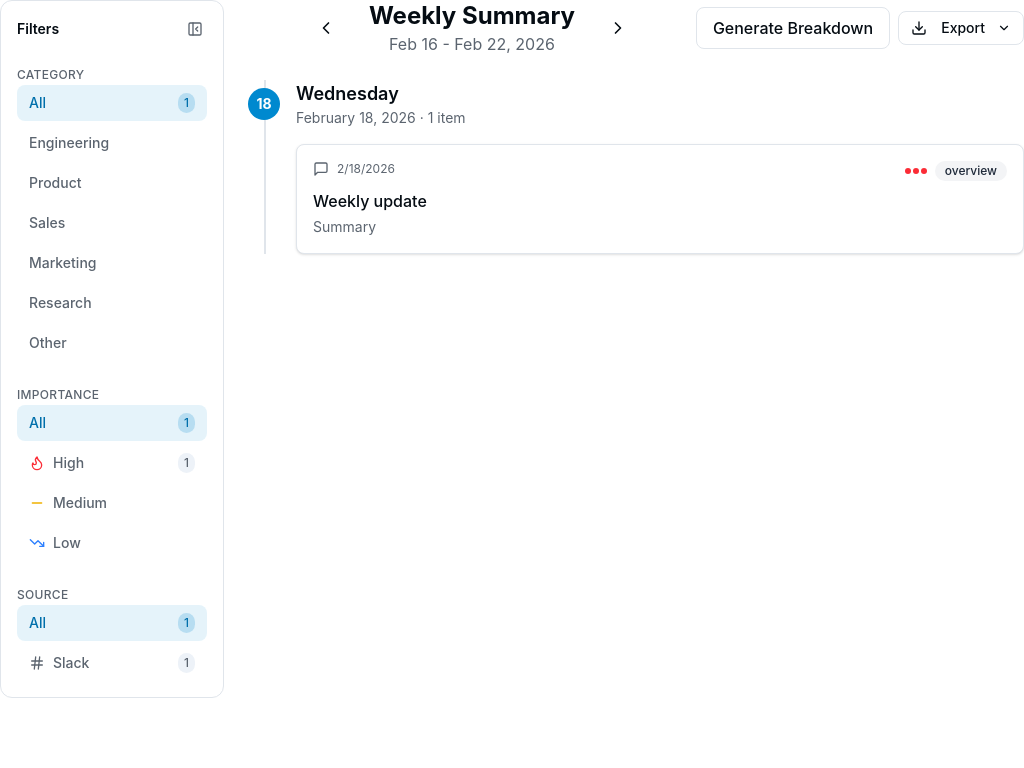
Test: WeeklySummaryView breakdown flow › generates breakdown and opens modal with returned text
Click the button "Generate Breakdown". click: point(793, 28)
box: left=696, top=7, right=890, bottom=49
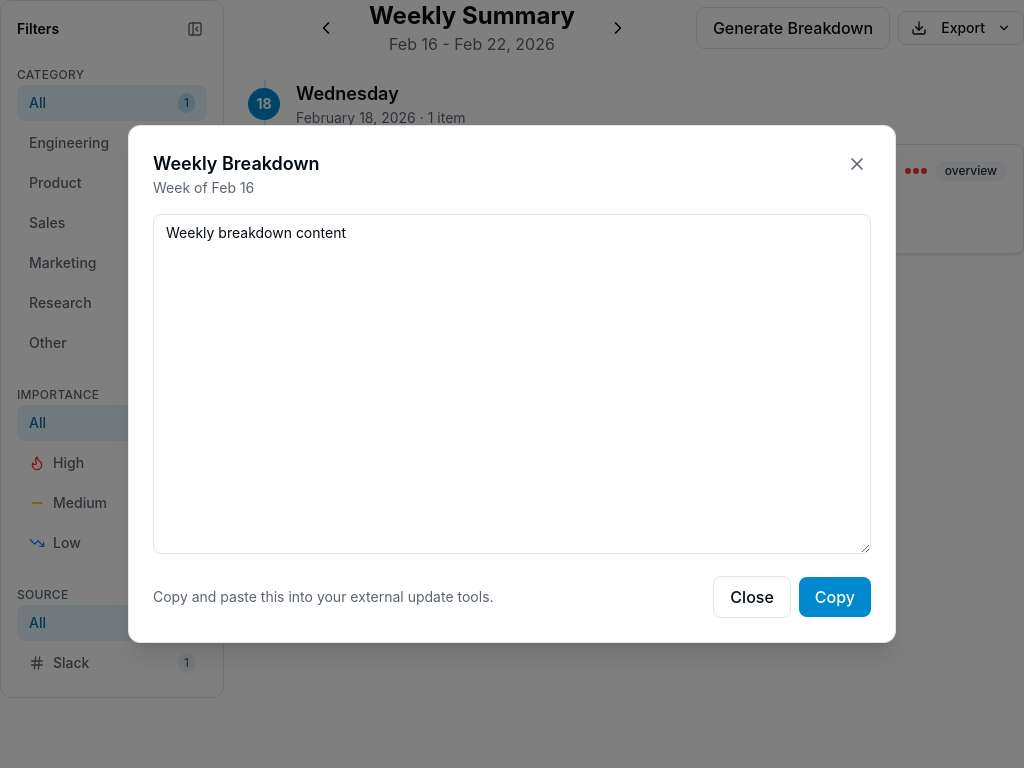
Expected: the heading "Weekly Breakdown" is shown, left=153, top=150, right=320, bottom=178
Expected: the text box showing "Weekly breakdown content" is shown, left=153, top=214, right=871, bottom=554
